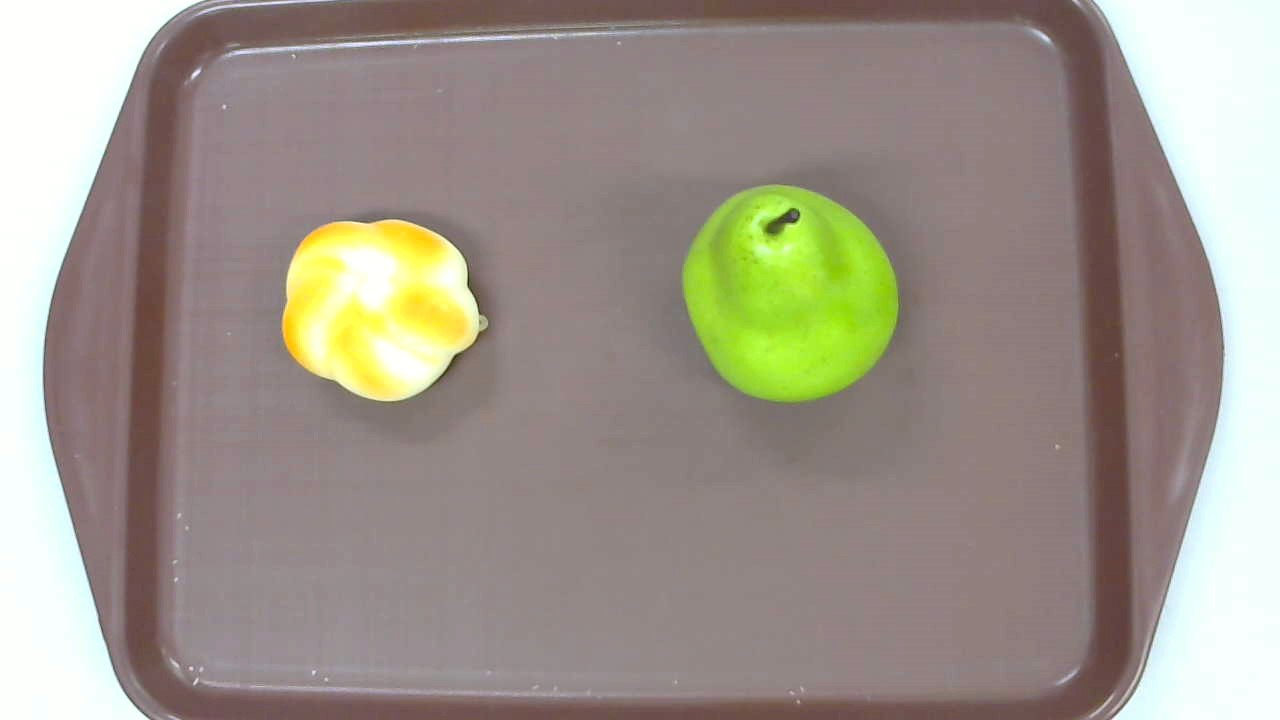green pear: (681, 182, 899, 403)
twist bread: (282, 220, 488, 402)
